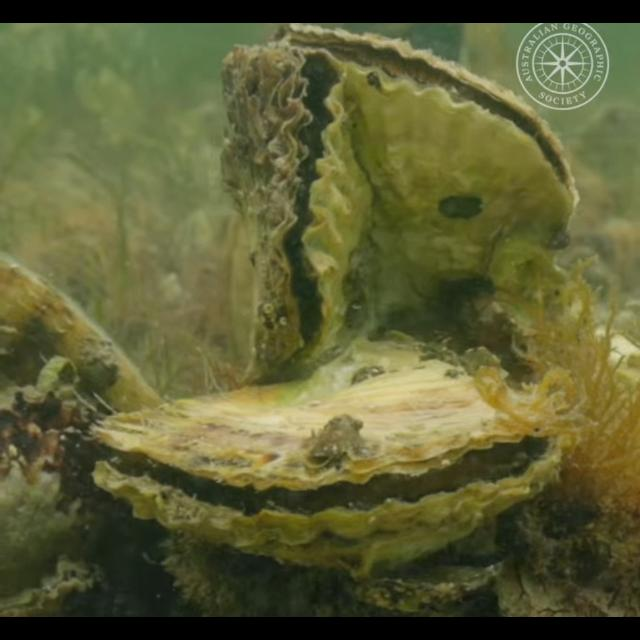Oyster-Closed: (1, 250, 170, 432)
Oyster-Open: (84, 333, 558, 583), (270, 24, 574, 352), (216, 44, 370, 390)
